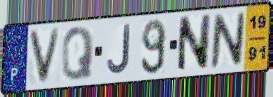9: (139, 17, 168, 77)
J: (106, 23, 132, 77)
N: (175, 12, 213, 74), (209, 11, 247, 70)
Q: (60, 25, 96, 82)
V: (27, 26, 63, 86)
